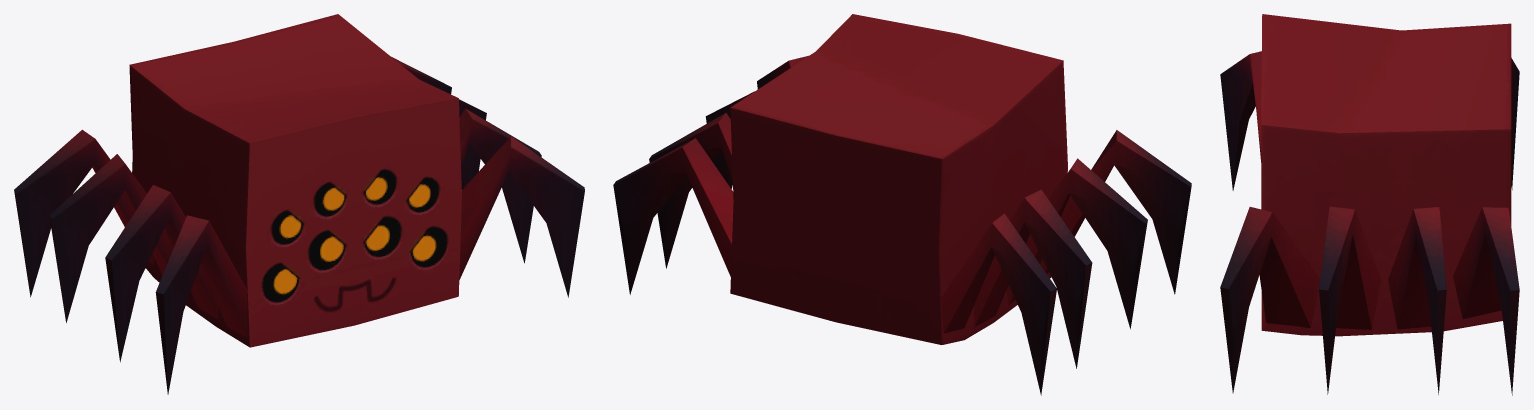
Rendered from pets_161.fbx.
The picture shows the model from 3 angles, left to right: view 1: azimuth 30°, elevation 25°; view 2: azimuth 150°, elevation 25°; view 3: azimuth 270°, elevation 25°; orthographic projection. The views are drawn at different scales.
Parts seen in each view (by area): view 1: Pets.161; view 2: Pets.161; view 3: Pets.161.
Boxes of the visible parts, x1,y1,x2,y2 form: Pets.161: [14, 14, 584, 394]; Pets.161: [613, 14, 1191, 395]; Pets.161: [1220, 14, 1519, 395].
Size of the model in its own units: 0.8161 by 0.4692 by 0.3933.
